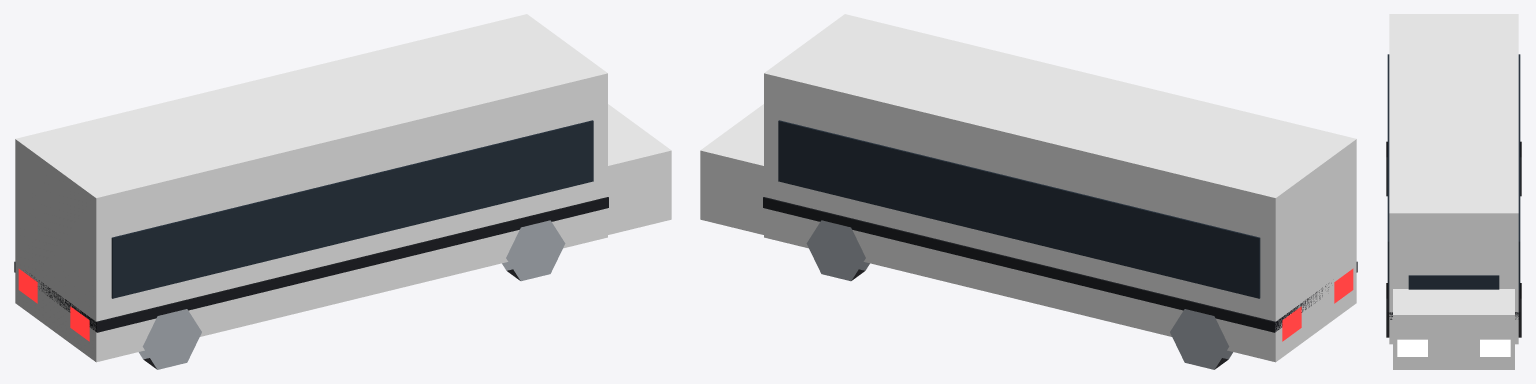
File: bus_school.glb
The picture shows the model from 3 angles, left to right: view 1: azimuth 30°, elevation 25°; view 2: azimuth 150°, elevation 25°; view 3: azimuth 270°, elevation 25°; orthographic projection. The views are drawn at different scales.
Visible parts, largest first — view 1: bus_school; view 2: bus_school; view 3: bus_school.
Boxes of the visible parts, left/top/right/bottom form: bus_school: left=14, top=14, right=671, bottom=369; bus_school: left=700, top=14, right=1357, bottom=369; bus_school: left=1386, top=14, right=1521, bottom=369.
Size of the model in its own units: 0.704 by 0.214 by 0.178.
